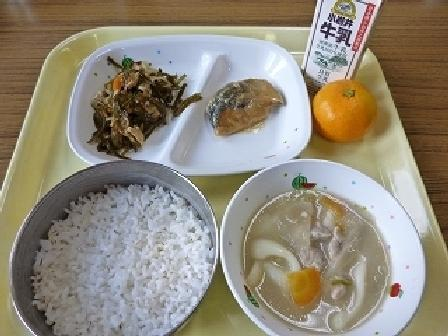Citrus: (313, 71, 383, 144)
Fish: (193, 67, 288, 149)
Milk: (297, 0, 382, 76)
Rice: (12, 159, 211, 335)
Soups: (235, 170, 405, 335)
salad with sauce: (78, 49, 183, 149)
